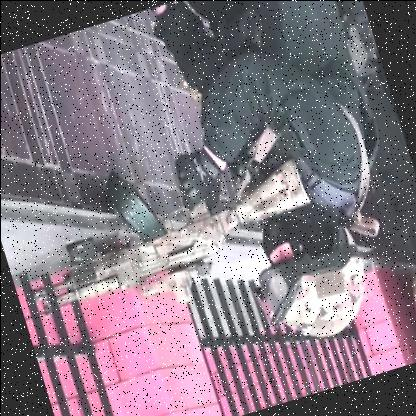rifle: (9, 122, 327, 336)
